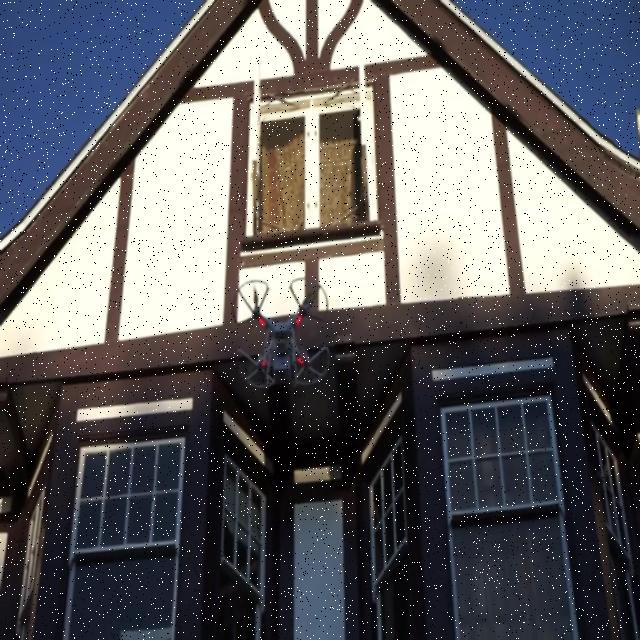UAV: (232, 277, 330, 391)
